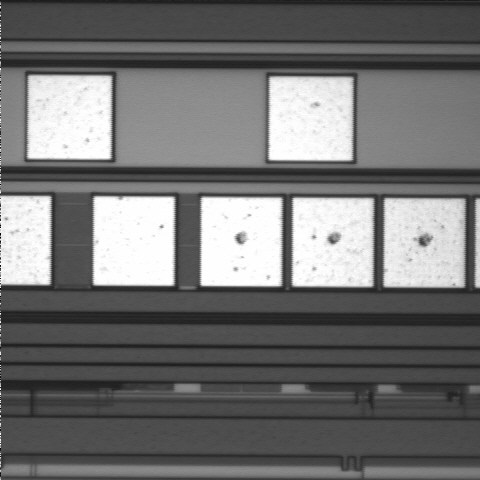pad: (93, 196, 174, 286), (201, 197, 282, 286), (292, 198, 373, 287), (384, 198, 464, 287), (269, 77, 353, 161), (28, 75, 111, 159)
